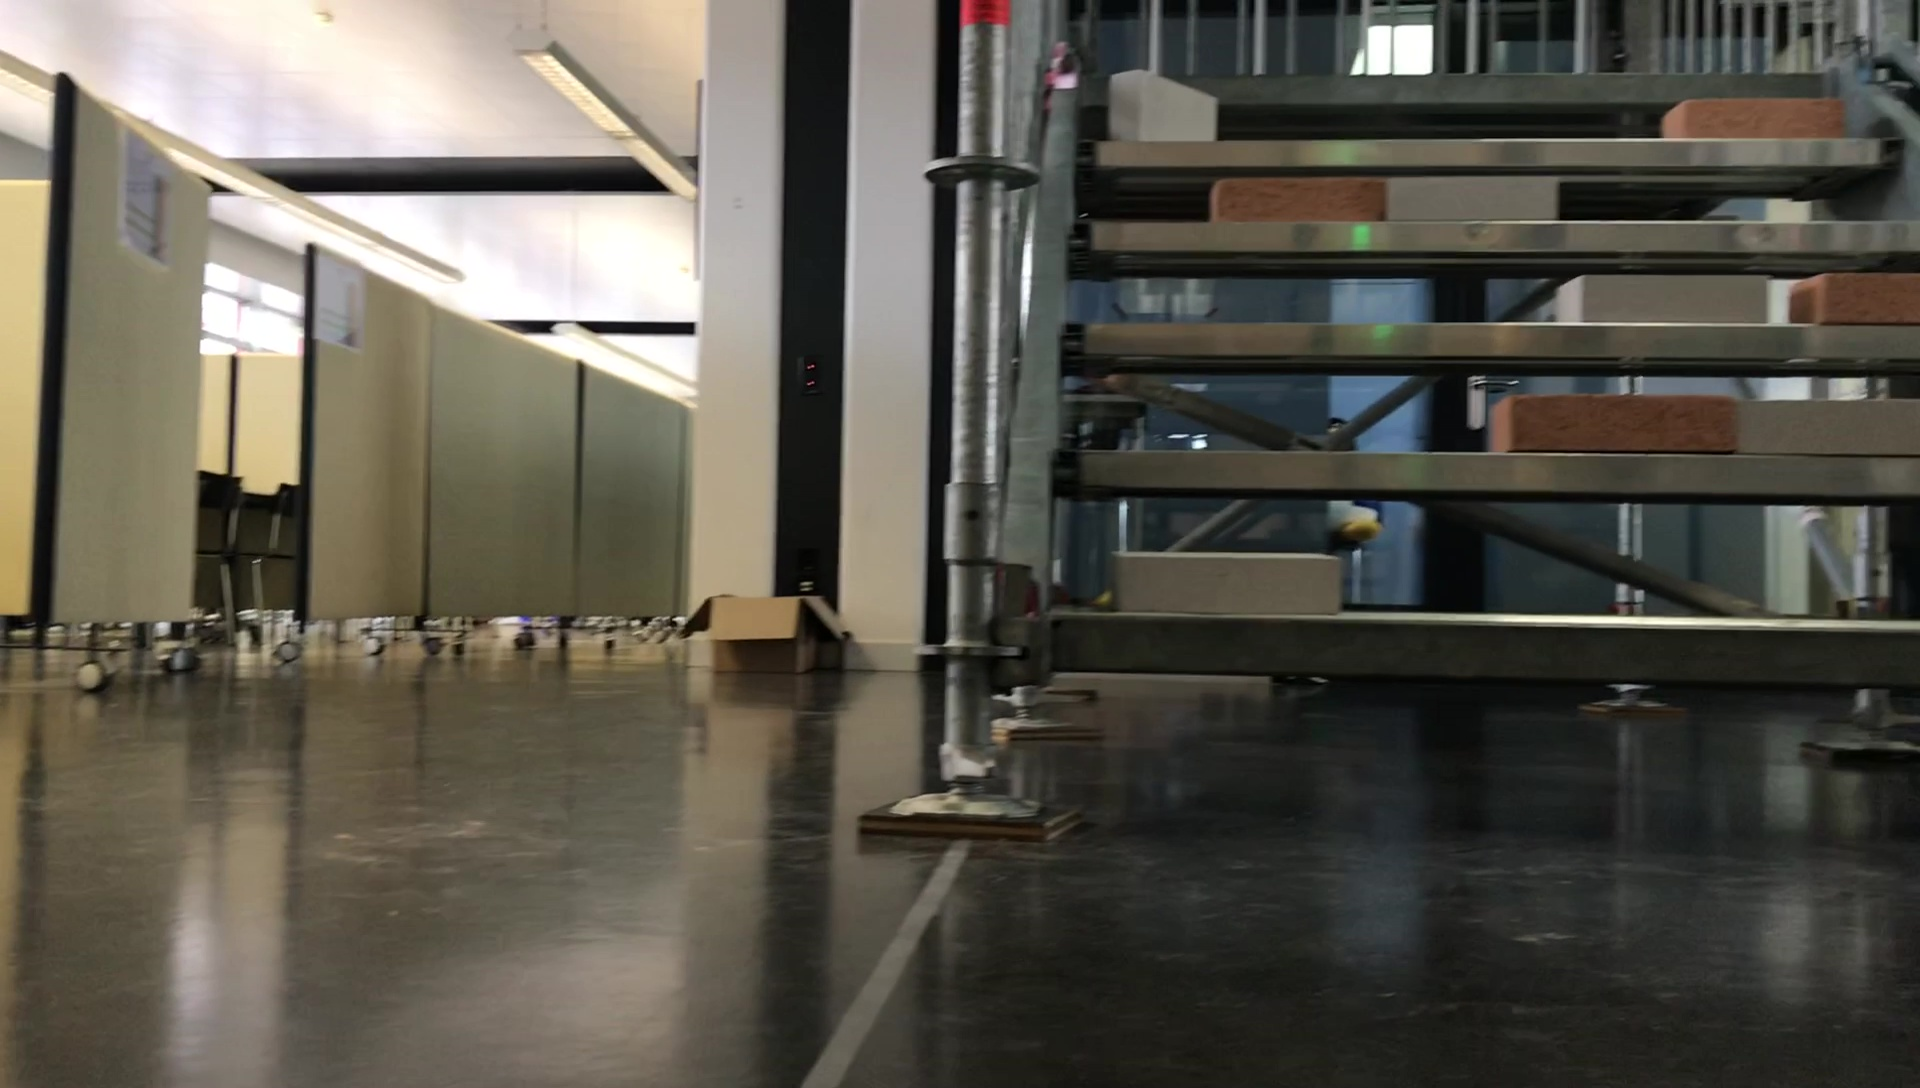brick: (1109, 537, 1356, 619), (1480, 386, 1737, 444), (1543, 276, 1778, 320), (1756, 389, 1920, 444), (1100, 65, 1221, 138), (1658, 96, 1873, 131), (1387, 177, 1567, 212), (1200, 185, 1378, 218), (1789, 274, 1920, 313)
edge: (1065, 443, 1920, 510), (1054, 617, 1920, 674), (1065, 322, 1920, 367), (1073, 212, 1920, 247), (1076, 136, 1896, 162), (1087, 73, 1832, 98)
steps: (1004, 59, 1920, 694)
